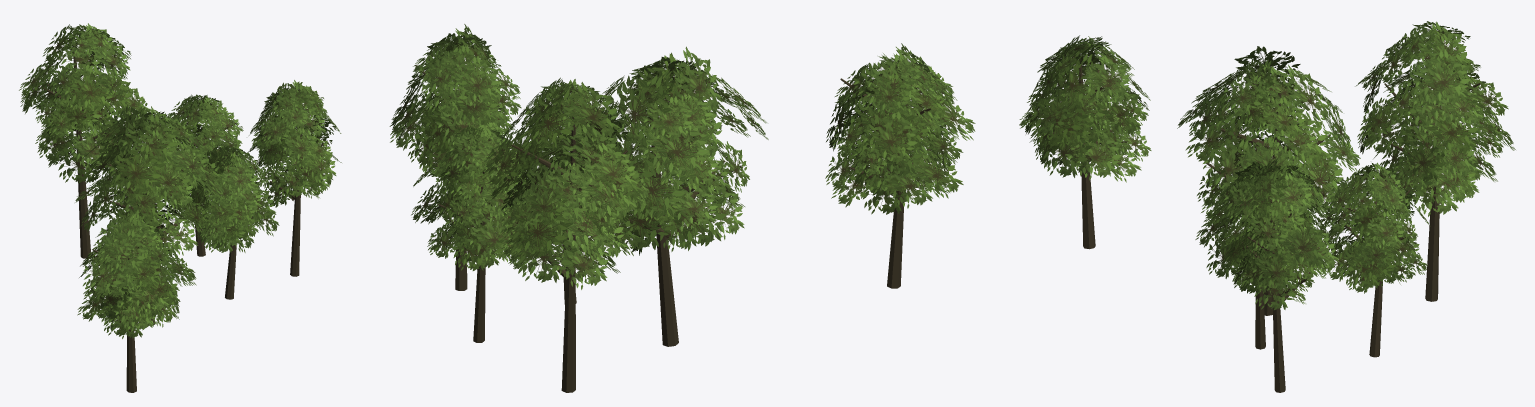
File: TRB8-FOREST-CHUNK-3-6.glb
3 views of the same model, side by side, from view 1: azimuth 30°, elevation 25°; view 2: azimuth 150°, elevation 25°; view 3: azimuth 270°, elevation 25° (orthographic). The views are drawn at different scales.
Visible parts, largest first — view 1: TRB8-FOREST-CHUNK-3-6; view 2: TRB8-FOREST-CHUNK-3-6; view 3: TRB8-FOREST-CHUNK-3-6.
Boxes of the visible parts, x1=… form: TRB8-FOREST-CHUNK-3-6: x1=19, y1=23, x2=341, y2=392; TRB8-FOREST-CHUNK-3-6: x1=389, y1=24, x2=975, y2=392; TRB8-FOREST-CHUNK-3-6: x1=1019, y1=21, x2=1515, y2=392.
Size of the model in its own units: 8.73 by 5.82 by 9.13.
2 materials, 1 textured.
